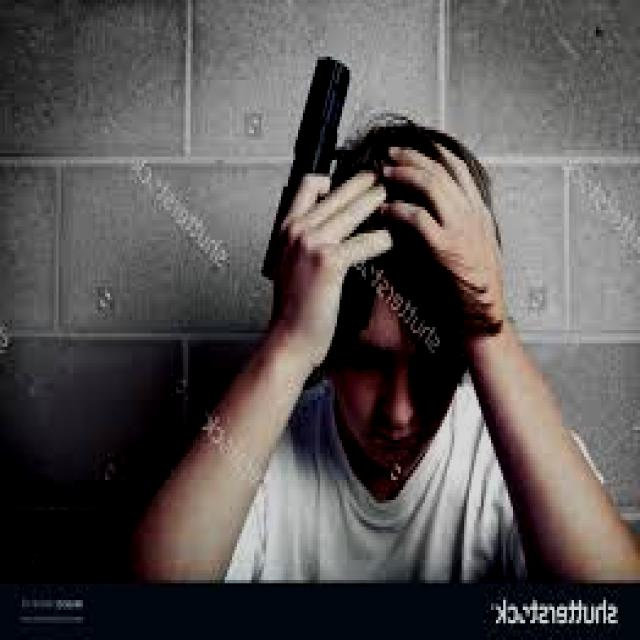pistol: (254, 40, 398, 330)
